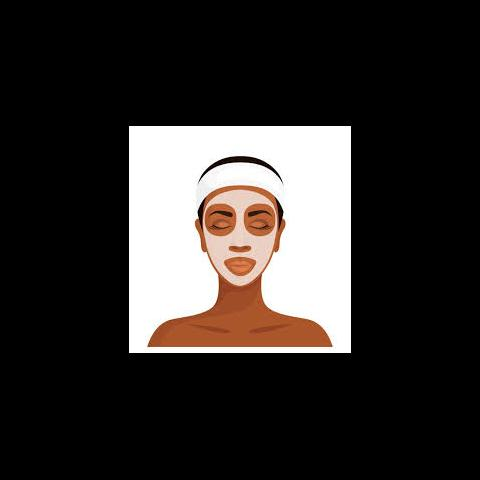closed: (200, 199, 282, 236)
